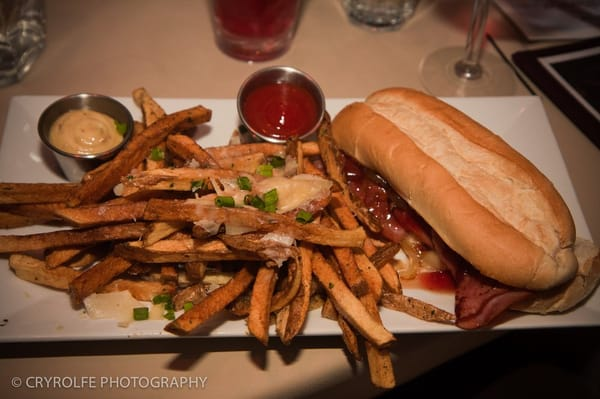pizza: (205, 0, 303, 63), (0, 1, 47, 90), (340, 1, 418, 30)
soup: (319, 86, 580, 322)
sushi: (38, 93, 135, 183), (236, 67, 326, 144)
